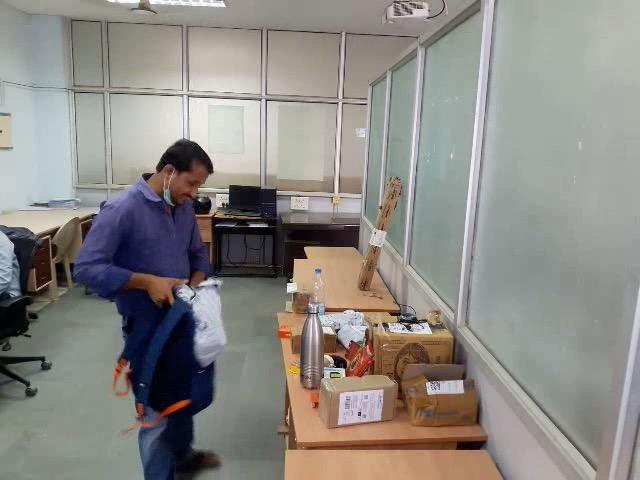shoplifting: (76, 247, 260, 439)
